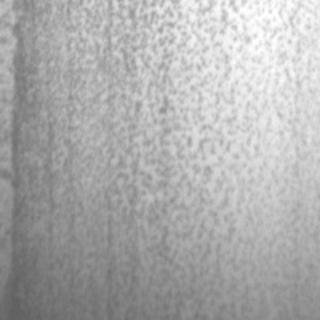pitted_surface: (12, 0, 318, 312)
